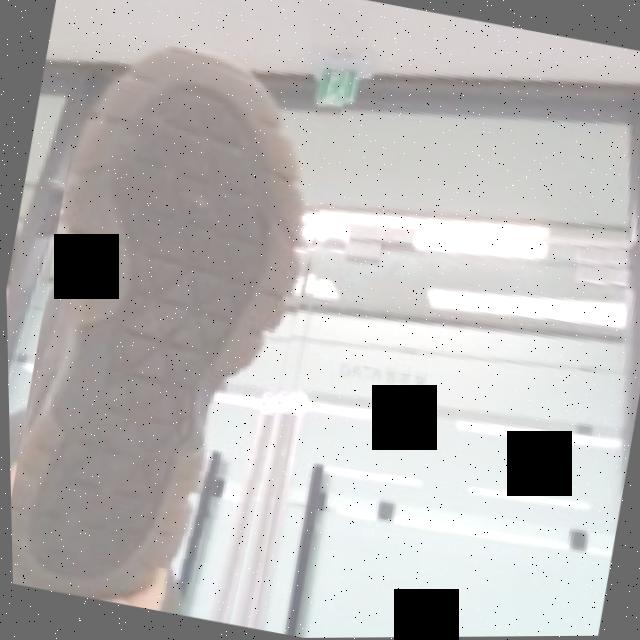shoe: (0, 23, 359, 630)
